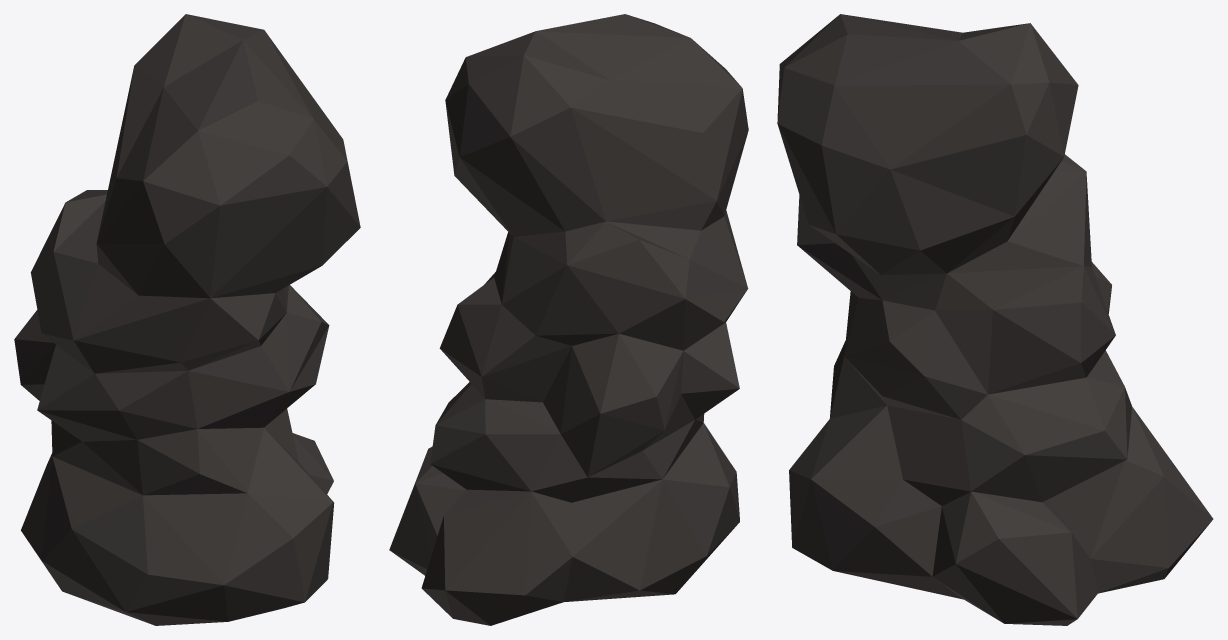
Rendered from Rock_9.fbx.
The picture shows the model from 3 angles, left to right: view 1: azimuth 30°, elevation 25°; view 2: azimuth 150°, elevation 25°; view 3: azimuth 270°, elevation 25°; orthographic projection. The views are drawn at different scales.
Parts seen in each view (by area): view 1: Group11939; view 2: Group11939; view 3: Group11939.
Boxes of the visible parts, x1,y1,x2,y2 form: Group11939: (14, 14, 360, 625); Group11939: (389, 14, 748, 625); Group11939: (777, 14, 1213, 625).
Size of the model in its own units: 1.62 by 2.87 by 1.97.
